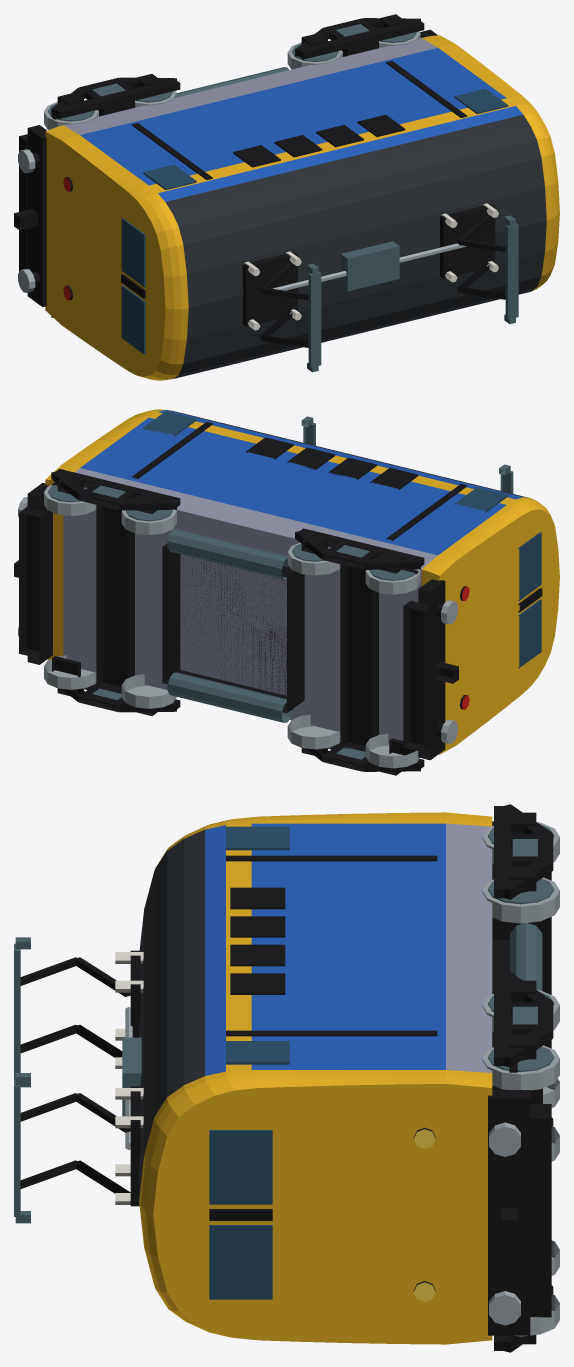
3 renders of one model, top to bottom at view 1: azimuth 30°, elevation 25°; view 2: azimuth 150°, elevation 25°; view 3: azimuth 270°, elevation 25°, orthographic. The views are drawn at different scales.
Visible parts, largest first — view 1: default_body, default_bogie1, default_bogie-1, default_beam-1, default_pan_base-1.9, default_pan_base1.9, default_breaker, default_screen-1-0.62, default_screen-10.62, default_pan_head-1.9, default_pan_head1.9, default_buffers-1 (+11 smaller); view 2: default_body, default_bogie-1, default_bogie1, default_tank, default_plough1, default_plough-1, default_air_tank-1, default_air_tank1, default_beam-1, default_beam1, default_screen-1-0.62, default_screen-10.62 (+9 smaller); view 3: default_body, default_bogie1, default_beam1, default_bogie-1, default_screen1-0.62, default_screen10.62, default_plough1, default_buffers1, default_air_tank1, default_side1_-3.30_3.85_glass_dark, default_side1_2.70_3.85_glass_dark, default_side1_2.39_2.10_black (+13 smaller).
Boxes of the visible parts, x1,y1,x2,y2 form: default_body: (45,35,559,380); default_bogie1: (287,14,424,69); default_bogie-1: (44,74,180,317); default_beam-1: (27,125,46,306); default_pan_base-1.9: (242,252,297,326); default_pan_base1.9: (440,204,495,278); default_breaker: (341,241,399,291); default_screen-1-0.62: (121,285,145,354); default_screen-10.62: (121,218,145,286); default_pan_head-1.9: (308,271,321,367); default_pan_head1.9: (505,223,518,319); default_buffers-1: (14,149,40,292); default_body: (45,409,559,754); default_bogie-1: (287,528,424,775); default_bogie1: (44,469,180,715); default_tank: (162,543,304,713); default_plough1: (19,507,47,658); default_plough-1: (403,601,431,752); default_air_tank-1: (167,672,293,722); default_air_tank1: (167,529,289,579); default_beam-1: (418,579,445,760); default_beam1: (27,483,52,664); default_screen-1-0.62: (518,599,541,668); default_screen-10.62: (518,532,541,600); default_body: (139,812,492,1344); default_bogie1: (482,972,559,1352); default_beam1: (488,1090,530,1335); default_bogie-1: (482,804,559,1161); default_screen1-0.62: (209,1225,272,1299); default_screen10.62: (209,1130,272,1204); default_plough1: (530,1104,551,1317); default_buffers1: (489,1122,520,1325); default_air_tank1: (510,923,542,990); default_side1_-3.30_3.85_glass_dark: (226,826,289,850); default_side1_2.70_3.85_glass_dark: (226,1041,289,1064); default_side1_2.39_2.10_black: (226,1030,437,1036).
Size of the model in its own units: 8.46 by 3.9 by 6.46.
